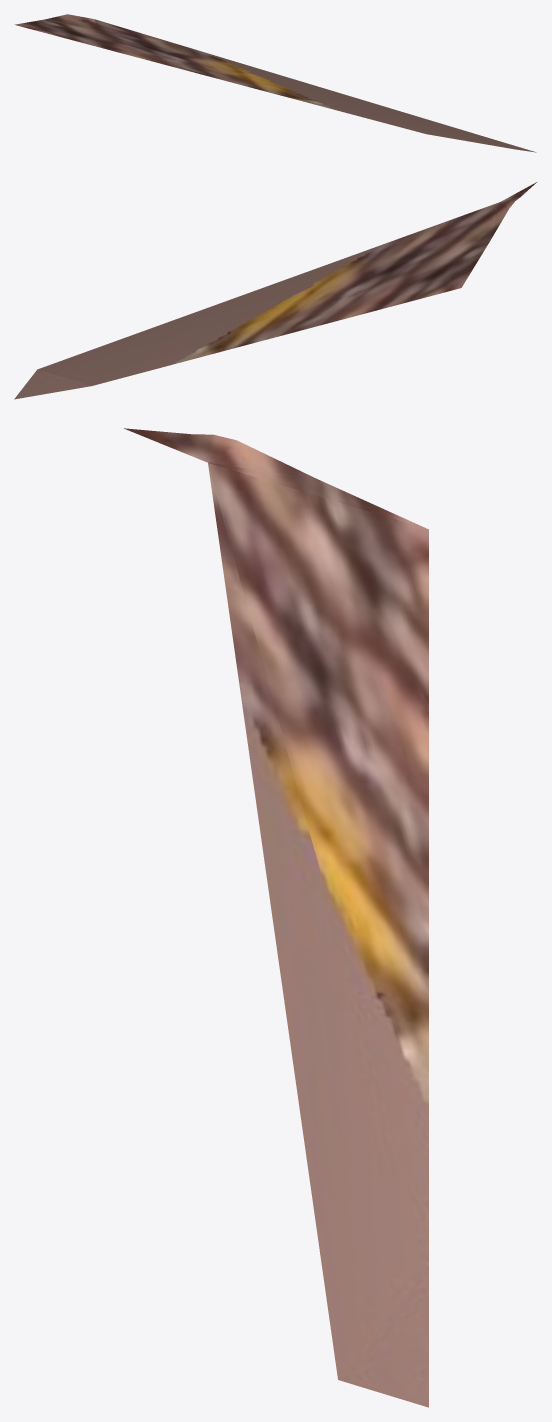
3 views of the same model, one above another, from view 1: azimuth 30°, elevation 25°; view 2: azimuth 150°, elevation 25°; view 3: azimuth 270°, elevation 25° (orthographic). The views are drawn at different scales.
Bounding box in the file's own units: 1.67 × 0.9684 × 0.4946.
Materials: 1 (1 with a texture image).
